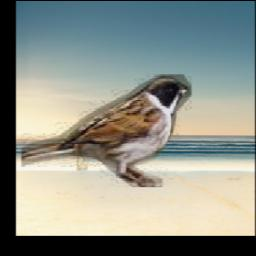Sparrow: (21, 75, 192, 188)
